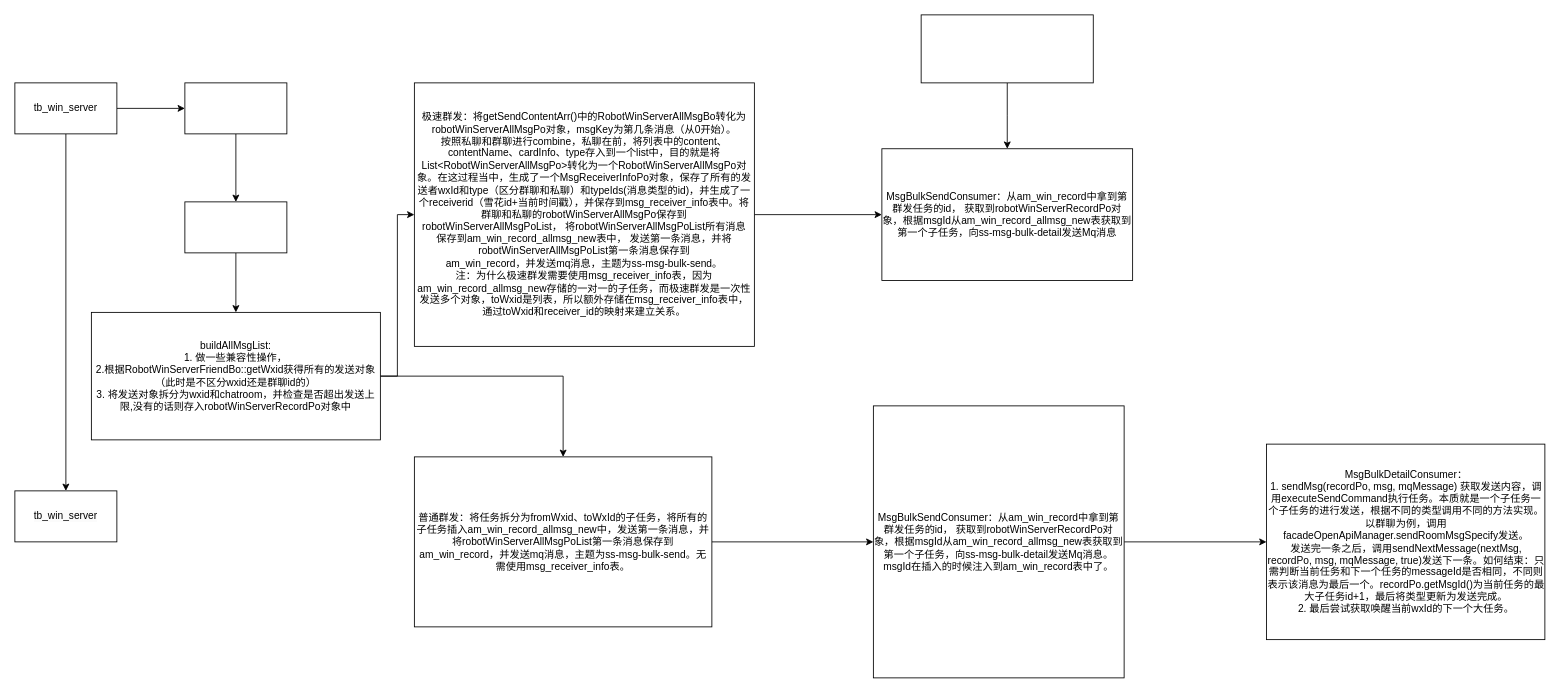
Image size: 1560x693. Some labels were removed from this diagram. The box of each missing label's shape, as (x1, y1, x2, y2) in pixels:
am_win_record是主任务，am_win_record_allmsg_new是子任务: (920, 14, 1093, 83)
insertAllRecord: (184, 82, 287, 134)
robotWinServerVo->robotWinServerBo->robotWinServerRecordPo: (184, 201, 287, 253)
